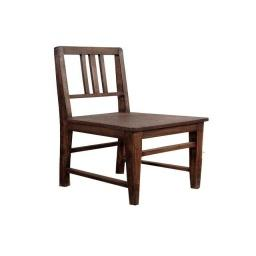Chair: (54, 45, 208, 204)
